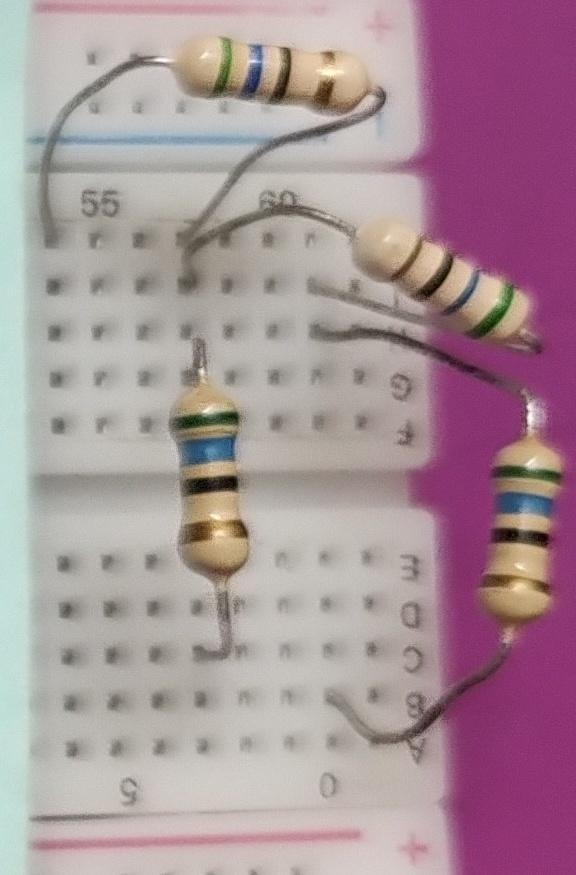resistor: (350, 202, 554, 356), (156, 18, 388, 152), (148, 370, 276, 604), (474, 406, 568, 642)
